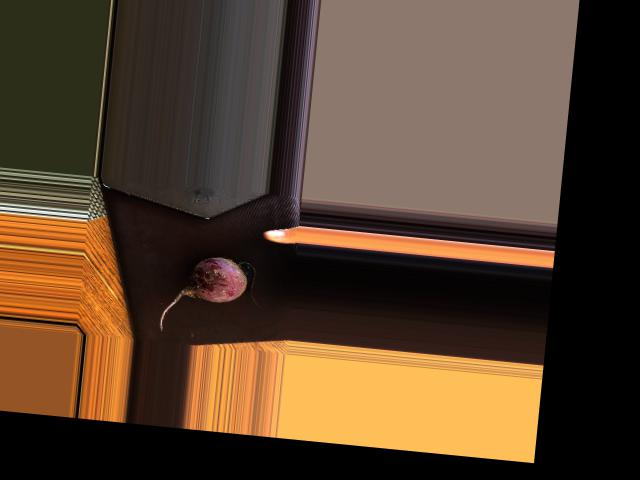beet: (158, 251, 263, 339)
